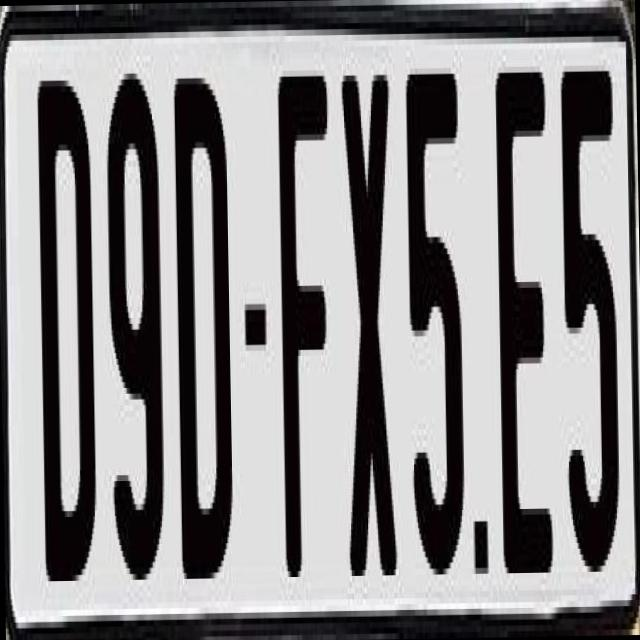5: (558, 59, 626, 578), (405, 55, 470, 592)
9: (102, 67, 166, 609)
D: (170, 66, 237, 578), (34, 80, 94, 598)
E: (494, 59, 554, 596)
F: (274, 70, 339, 582)
X: (338, 56, 398, 558)
